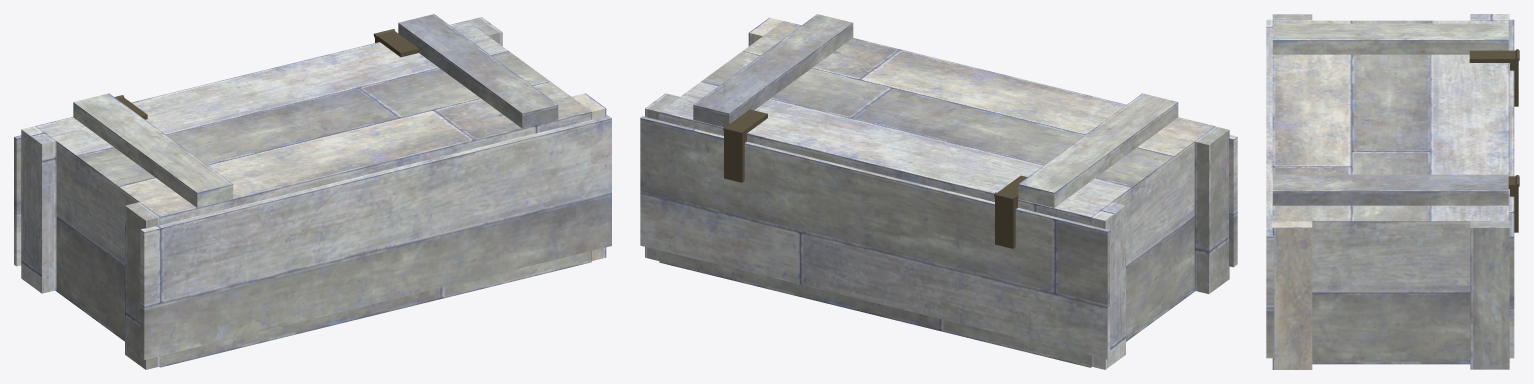
The model's file is GunBoxWooden.fbx.
3 views of the same model, side by side, from view 1: azimuth 30°, elevation 25°; view 2: azimuth 150°, elevation 25°; view 3: azimuth 270°, elevation 25° (orthographic). The views are drawn at different scales.
Visible parts, largest first — view 1: GunBOx; view 2: GunBOx; view 3: GunBOx.
Boxes of the visible parts, x1,y1,x2,y2 form: GunBOx: (14,14,611,369); GunBOx: (640,14,1237,369); GunBOx: (1266,14,1519,369).
Bounding box in the file's own units: 650 × 220 × 320.
3 materials, 1 textured.
